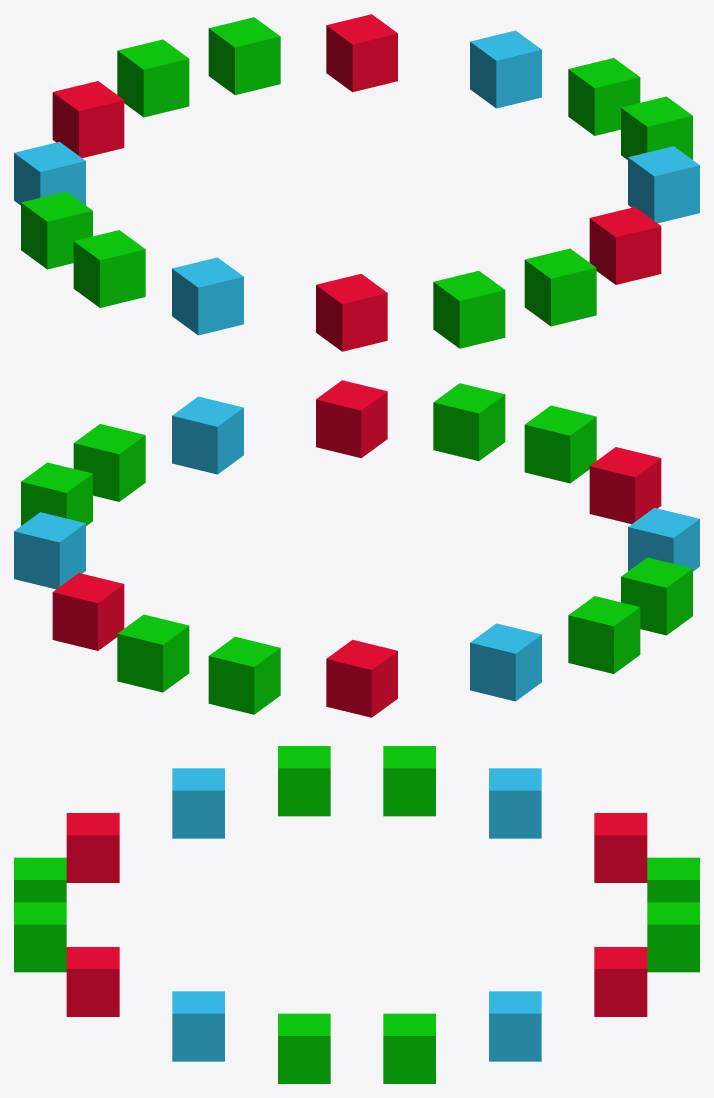
File: Saucer_obj-0.obj
The picture shows the model from 3 angles, top to bottom: view 1: azimuth 30°, elevation 25°; view 2: azimuth 150°, elevation 25°; view 3: azimuth 270°, elevation 25°; orthographic projection.
Size of the model in its own units: 1.3 by 0.1 by 1.3.
Materials: 1 (1 with a texture image).
